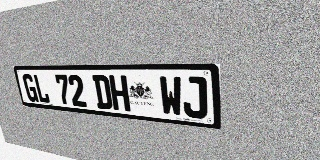2: (67, 75, 87, 107)
7: (54, 74, 73, 106)
D: (92, 75, 113, 110)
G: (22, 74, 39, 102)
H: (109, 75, 131, 112)
J: (182, 76, 207, 119)
L: (33, 74, 51, 104)
W: (159, 76, 183, 117)
